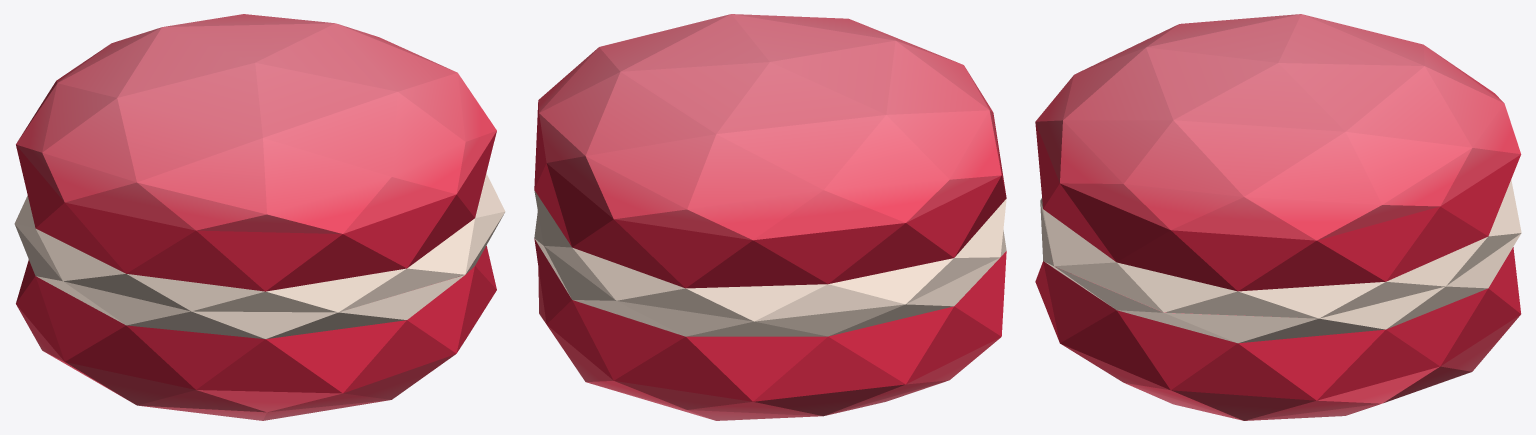
File: macaronA.FBX
3 views of the same model, side by side, from view 1: azimuth 30°, elevation 25°; view 2: azimuth 150°, elevation 25°; view 3: azimuth 270°, elevation 25° (orthographic).
Visible parts, largest first — view 1: macaronA; view 2: macaronA; view 3: macaronA.
Part boxes in pixels (x1,y1,x2,y2): macaronA: (14,14,505,420); macaronA: (534,14,1006,420); macaronA: (1035,14,1521,420).
Size of the model in its own units: 1.5 by 1.05 by 1.5.
